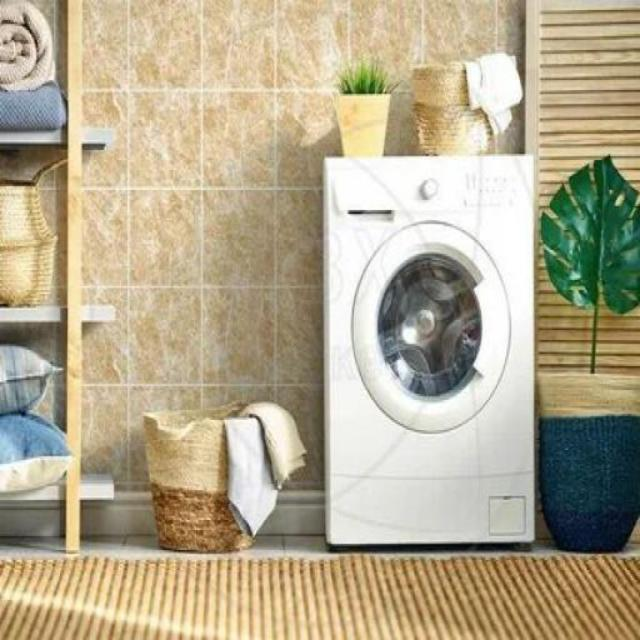Washing-Machine: (330, 154, 532, 540)
